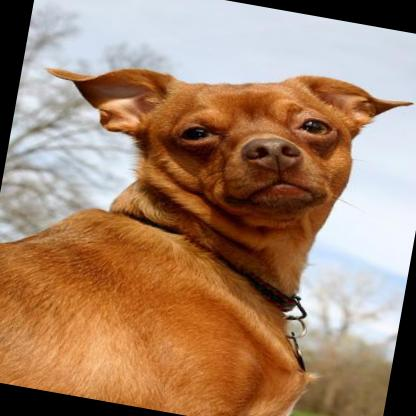miniature_pinscher: (0, 20, 413, 416)
